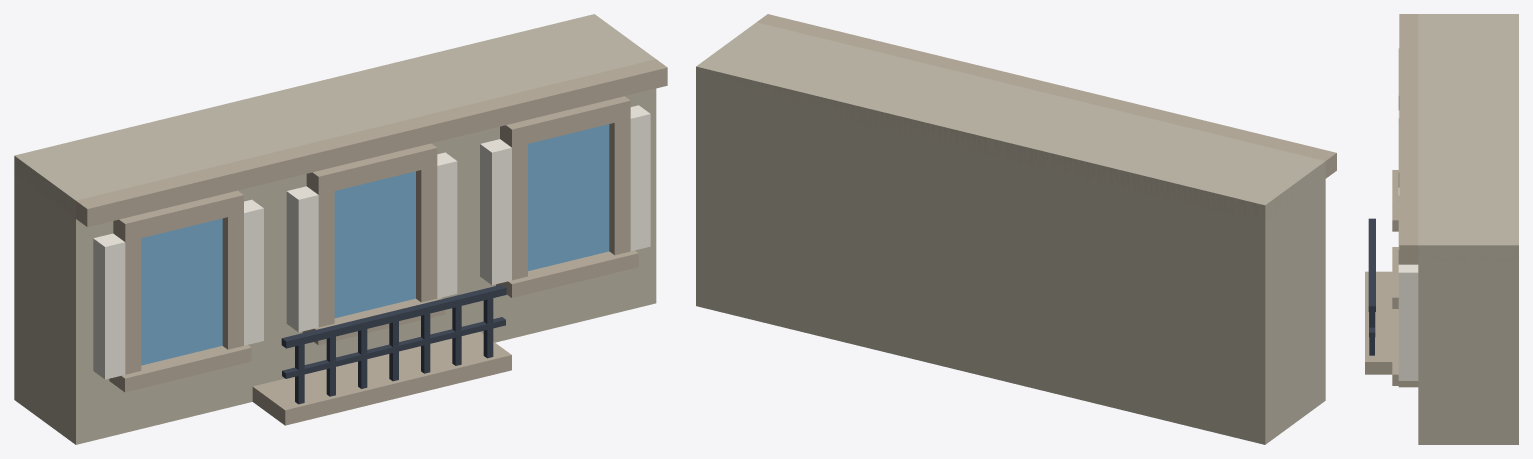
Rendered from cittaCremaPianoA.glb.
3 renders of one model, left to right at view 1: azimuth 30°, elevation 25°; view 2: azimuth 150°, elevation 25°; view 3: azimuth 270°, elevation 25°, orthographic. The views are drawn at different scales.
Visible parts, largest first — view 1: cittaCremaPianoA_cittaCrema, cittaCremaPianoA_stone, cittaCremaPianoA_glass, cittaCremaPianoA_white, cittaCremaPianoA_steelDark; view 2: cittaCremaPianoA_cittaCrema, cittaCremaPianoA_stone; view 3: cittaCremaPianoA_cittaCrema, cittaCremaPianoA_stone, cittaCremaPianoA_white, cittaCremaPianoA_steelDark.
Boxes of the visible parts, x1,y1,x2,y2 form: cittaCremaPianoA_cittaCrema: [14, 14, 656, 444]; cittaCremaPianoA_stone: [14, 59, 667, 425]; cittaCremaPianoA_glass: [141, 124, 609, 365]; cittaCremaPianoA_white: [93, 105, 650, 379]; cittaCremaPianoA_steelDark: [281, 284, 506, 404]; cittaCremaPianoA_cittaCrema: [696, 22, 1325, 444]; cittaCremaPianoA_stone: [698, 14, 1336, 222]; cittaCremaPianoA_cittaCrema: [1418, 14, 1518, 444]; cittaCremaPianoA_stone: [1365, 14, 1517, 387]; cittaCremaPianoA_white: [1398, 110, 1418, 380]; cittaCremaPianoA_steelDark: [1368, 218, 1375, 355].
Size of the model in its own units: 8.7 by 3.5 by 2.44.
